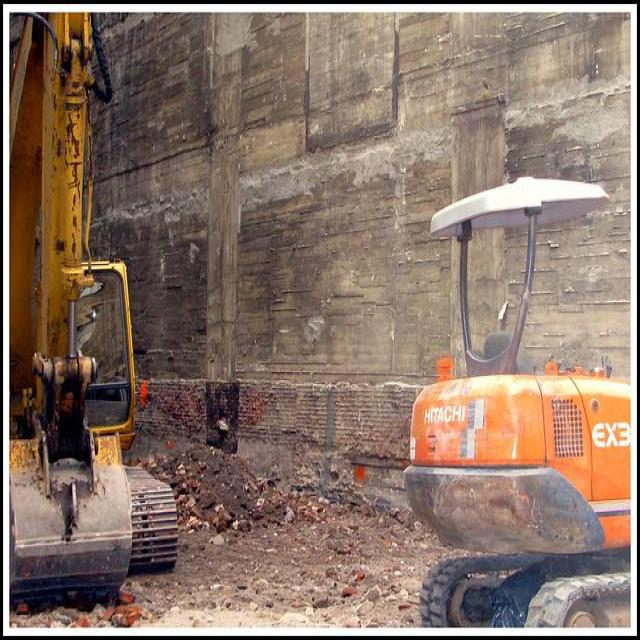Excavadora: (0, 12, 180, 606), (408, 178, 639, 638)
